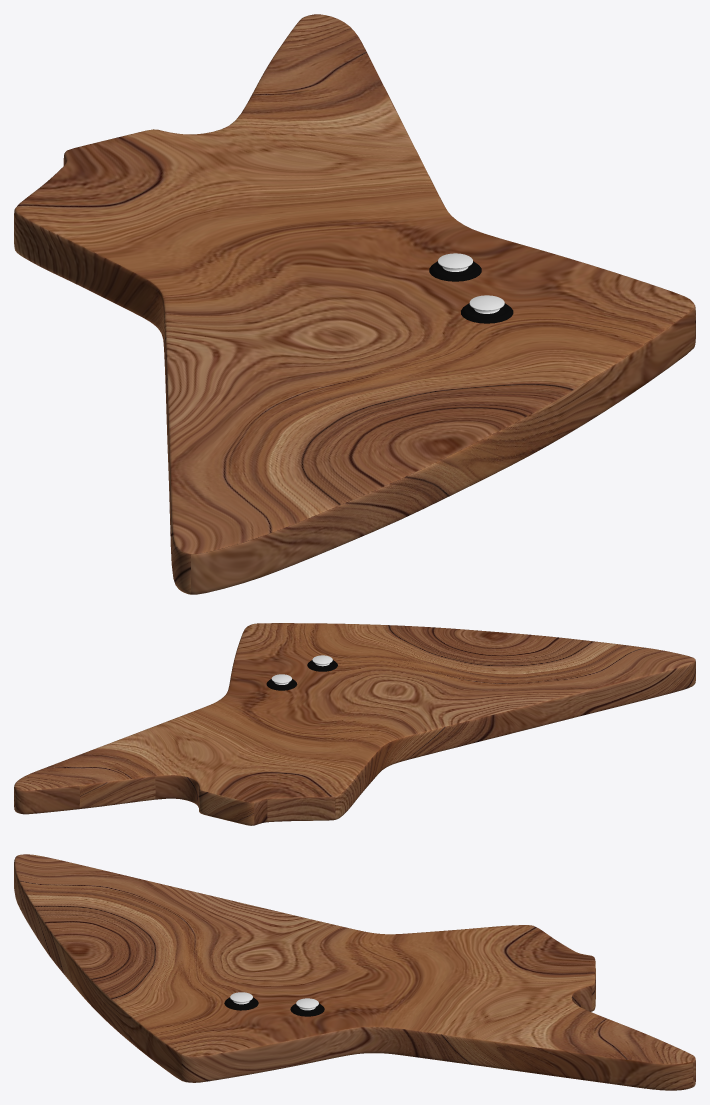
The model's file is Explorer_Madera.glb.
3 views of the same model, one above another, from view 1: azimuth 30°, elevation 25°; view 2: azimuth 150°, elevation 25°; view 3: azimuth 270°, elevation 25° (orthographic). The views are drawn at different scales.
Visible parts, largest first — view 1: Explorer_Madera; view 2: Explorer_Madera; view 3: Explorer_Madera.
Boxes of the visible parts, bbox=[...] form: Explorer_Madera: bbox=[14, 14, 695, 594]; Explorer_Madera: bbox=[14, 623, 695, 825]; Explorer_Madera: bbox=[14, 854, 695, 1090].
Size of the model in its own units: 2.26 by 0.1747 by 3.09.
Materials: 3 (1 with a texture image).
